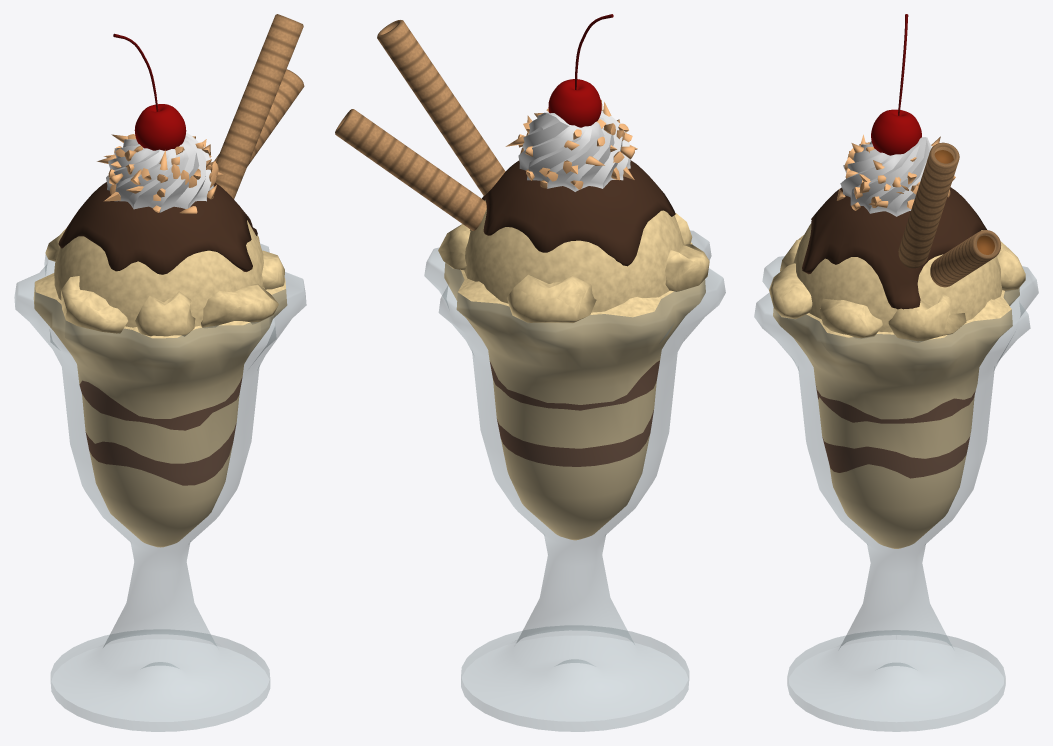
The model's file is heladoCopa.gltf.
3 renders of one model, left to right at view 1: azimuth 30°, elevation 25°; view 2: azimuth 150°, elevation 25°; view 3: azimuth 270°, elevation 25°, orthographic. The views are drawn at different scales.
Parts seen in each view (by area): view 1: IceCream_Glass, IceCream_Main, IceCream_Chocolate_Top, IceCream_Bar.000, IceCream_Top_Cream, IceCream_Nuts, IceCream_Cherry, IceCream_Bar.001; view 2: IceCream_Glass, IceCream_Main, IceCream_Chocolate_Top, IceCream_Bar.000, IceCream_Top_Cream, IceCream_Bar.001, IceCream_Cherry, IceCream_Nuts; view 3: IceCream_Glass, IceCream_Main, IceCream_Chocolate_Top, IceCream_Bar.000, IceCream_Top_Cream, IceCream_Bar.001, IceCream_Cherry, IceCream_Nuts.
Boxes of the visible parts, x1=… form: IceCream_Glass: x1=14, y1=243, x2=306, y2=731; IceCream_Main: x1=45, y1=220, x2=284, y2=336; IceCream_Chocolate_Top: x1=58, y1=182, x2=257, y2=274; IceCream_Bar.000: x1=215, y1=14, x2=303, y2=198; IceCream_Top_Cream: x1=106, y1=132, x2=213, y2=212; IceCream_Nuts: x1=97, y1=134, x2=223, y2=213; IceCream_Cherry: x1=113, y1=33, x2=186, y2=150; IceCream_Bar.001: x1=214, y1=69, x2=304, y2=166; IceCream_Glass: x1=424, y1=230, x2=725, y2=731; IceCream_Main: x1=438, y1=200, x2=709, y2=323; IceCream_Chocolate_Top: x1=482, y1=160, x2=675, y2=266; IceCream_Bar.000: x1=377, y1=20, x2=505, y2=195; IceCream_Top_Cream: x1=518, y1=111, x2=630, y2=191; IceCream_Bar.001: x1=335, y1=109, x2=486, y2=230; IceCream_Cherry: x1=548, y1=14, x2=613, y2=127; IceCream_Nuts: x1=505, y1=100, x2=637, y2=189; IceCream_Glass: x1=754, y1=256, x2=1038, y2=731; IceCream_Main: x1=769, y1=223, x2=1025, y2=342; IceCream_Chocolate_Top: x1=802, y1=187, x2=986, y2=309; IceCream_Bar.000: x1=898, y1=142, x2=959, y2=268; IceCream_Top_Cream: x1=840, y1=137, x2=932, y2=216; IceCream_Bar.001: x1=930, y1=230, x2=1000, y2=287; IceCream_Cherry: x1=871, y1=14, x2=921, y2=155; IceCream_Nuts: x1=837, y1=134, x2=955, y2=210.
Size of the model in its own units: 19.5 by 39.66 by 15.69.
7 materials, 5 textured.
